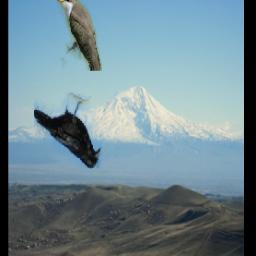Crow: (34, 93, 102, 169)
Cuckoo: (56, 0, 101, 72)
